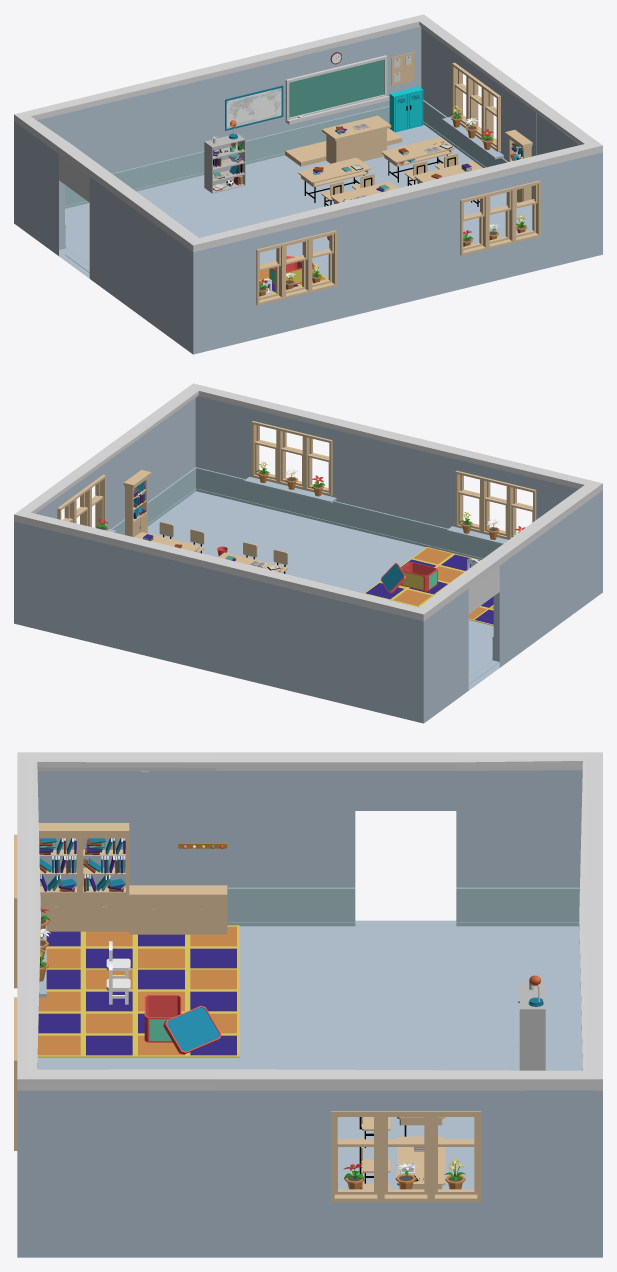
The model's file is classroom1020.fbx.
3 renders of one model, top to bottom at view 1: azimuth 30°, elevation 25°; view 2: azimuth 150°, elevation 25°; view 3: azimuth 270°, elevation 25°, orthographic. The views are drawn at different scales.
Parts seen in each view (by area): view 1: Classroom, Classroom.001, Blackboard, Teacher_Table, World_Map, BookShelf, Locker, Desk.001, Desk, Teaching_Platform, Window_Frame_Out_A.003, Bookcase (+11 smaller); view 2: Classroom, Classroom.001, Plane.002, Bookcase, Plane.005, Toychest, Window_Frame_Out_C.002, Window_Frame_Out_A.002, Window_Frame_Out_B.002, Window_Frame_Out_A.001, Window_Frame_Out_B.001, Window_Frame_Out_C.001 (+2 smaller); view 3: Classroom, Classroom.001, Plane.002, Plane.003, Plane.004, Bookcase.003, Plane, Plane.001, Bookcase.002, Plane.005, BookShelf, Toychest_lid (+14 smaller).
Part boxes in pixels (x1,y1,x2,y2): Classroom: (14,14,541,309); Classroom.001: (132,101,602,354); Blackboard: (285,55,389,124); Teacher_Table: (322,115,391,163); World_Map: (225,85,283,130); BookShelf: (204,133,245,193); Locker: (389,86,423,132); Desk.001: (298,157,370,202); Desk: (382,137,454,182); Teaching_Platform: (285,128,402,166); Window_Frame_Out_A.003: (482,85,500,151); Bookcase: (505,129,532,205); Classroom: (14,428,541,723); Classroom.001: (132,383,602,636); Plane.002: (400,547,480,583); Bookcase: (123,470,151,536); Plane.005: (363,580,449,606); Toychest: (400,562,437,591); Window_Frame_Out_C.002: (304,434,332,496); Window_Frame_Out_A.002: (251,421,278,483); Window_Frame_Out_B.002: (278,427,305,489); Window_Frame_Out_A.001: (455,470,482,532); Window_Frame_Out_B.001: (482,477,509,539); Window_Frame_Out_C.001: (508,483,536,539); Classroom: (216,752,602,1257); Classroom.001: (17,752,216,1257); Plane.002: (37,1012,135,1057); Plane.003: (135,968,239,1012); Plane.004: (135,925,239,969); Bookcase.003: (80,823,129,931); Plane: (38,968,135,1012); Plane.001: (46,931,135,969); Bookcase.002: (38,823,80,931); Plane.005: (135,1012,239,1057); BookShelf: (519,982,545,1070); Toychest_lid: (163,1006,221,1054).
Bounding box in the file's own units: 1487 × 377 × 1130.
